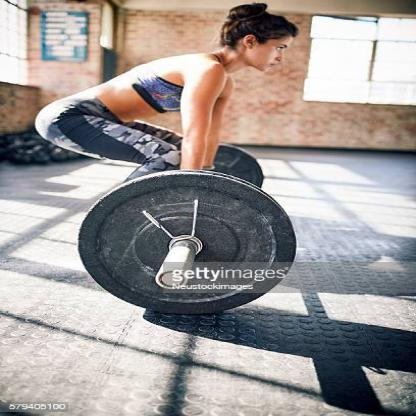Barbell: (153, 266, 194, 293)
